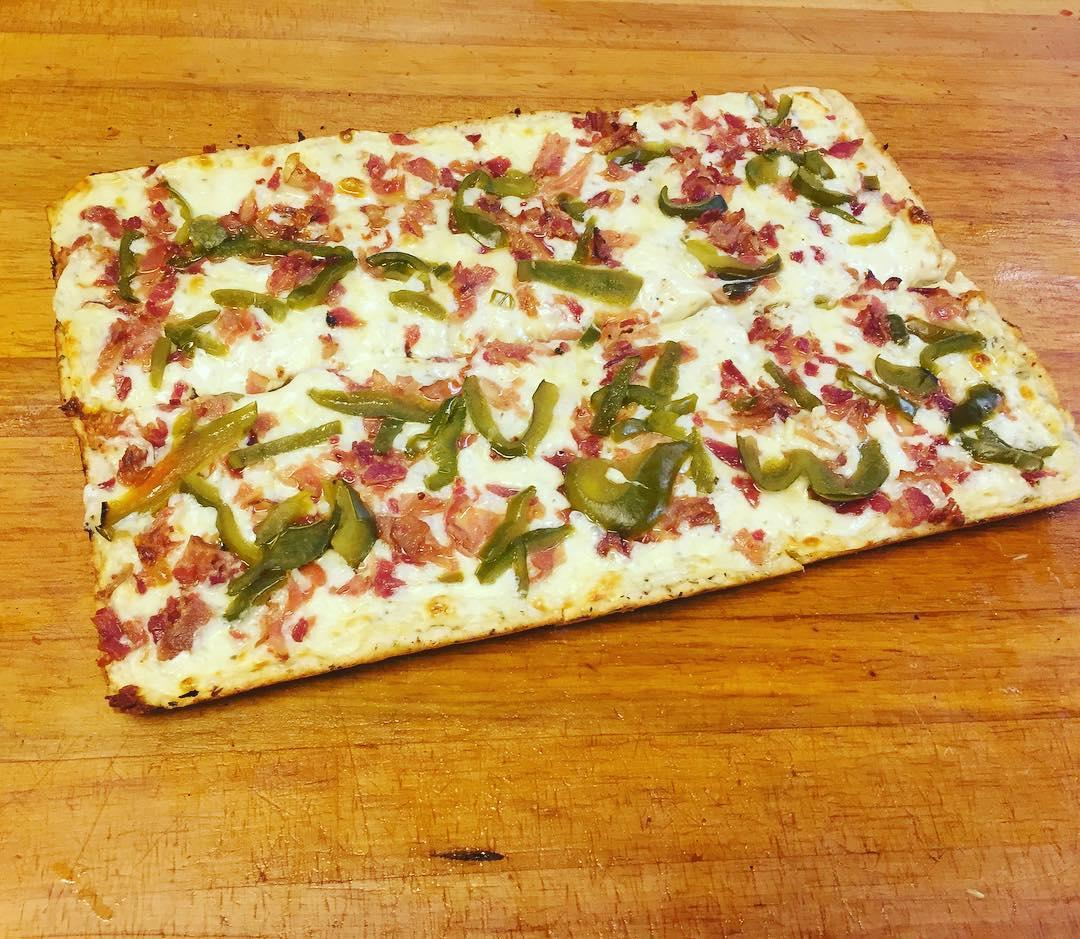Ham: (879, 407, 970, 533), (380, 487, 499, 565), (250, 560, 333, 666), (592, 496, 727, 560), (744, 313, 853, 381), (709, 359, 798, 433), (328, 365, 474, 405), (498, 197, 577, 265), (592, 307, 659, 385), (171, 530, 252, 594), (238, 450, 327, 507), (538, 398, 602, 477), (672, 135, 748, 201), (147, 590, 213, 663), (696, 205, 783, 257), (741, 126, 868, 161), (134, 502, 186, 584), (343, 440, 424, 491), (702, 438, 760, 509), (812, 383, 877, 446), (89, 605, 148, 668), (312, 303, 367, 369), (477, 332, 570, 370), (570, 104, 646, 150), (269, 194, 340, 243), (100, 317, 162, 366), (339, 553, 401, 600), (843, 290, 891, 349), (540, 150, 597, 198), (163, 380, 233, 419), (220, 194, 276, 239), (140, 200, 172, 274), (80, 202, 143, 239), (234, 360, 297, 397), (402, 155, 462, 191), (395, 194, 440, 242), (728, 525, 777, 569), (582, 185, 640, 217), (530, 127, 566, 177), (843, 262, 902, 292), (360, 153, 403, 194), (689, 109, 749, 137), (94, 257, 123, 311), (145, 271, 179, 317), (530, 547, 568, 588), (113, 446, 151, 486), (589, 161, 649, 181), (399, 322, 426, 363), (141, 413, 171, 448), (557, 296, 588, 327), (881, 192, 908, 220), (386, 126, 421, 147), (459, 126, 485, 151), (112, 371, 133, 401), (475, 192, 500, 216), (676, 89, 702, 112), (654, 115, 689, 132)
Peppers: (95, 397, 261, 530), (562, 426, 719, 534), (159, 406, 265, 563), (222, 498, 345, 619), (728, 431, 891, 508), (459, 370, 563, 466), (210, 498, 345, 568), (446, 168, 540, 253), (506, 261, 648, 315), (222, 415, 345, 474), (321, 466, 381, 579), (303, 385, 450, 427), (899, 312, 990, 379), (957, 424, 1062, 474), (206, 232, 360, 266), (785, 165, 866, 229), (587, 350, 642, 441), (681, 235, 784, 282), (423, 406, 474, 497), (251, 482, 322, 546), (363, 249, 458, 295), (283, 249, 358, 307), (585, 381, 704, 416), (163, 304, 236, 360), (759, 357, 828, 414), (743, 150, 832, 193), (600, 404, 689, 445), (209, 281, 291, 325), (870, 352, 942, 400), (109, 215, 145, 307), (600, 135, 697, 168), (408, 392, 462, 449), (831, 363, 903, 404), (654, 184, 728, 219), (387, 288, 452, 325), (647, 337, 682, 399), (743, 89, 796, 128), (162, 184, 195, 245), (143, 328, 173, 390), (370, 410, 409, 457), (842, 218, 897, 247), (574, 216, 601, 271), (551, 194, 592, 224), (185, 210, 224, 241)
Pizza: (43, 76, 1080, 721)
